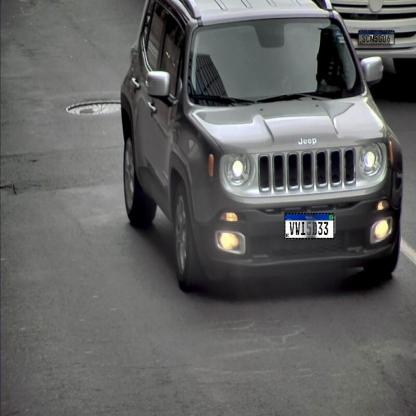PlacaM: (284, 213, 334, 239), (358, 30, 395, 44)
